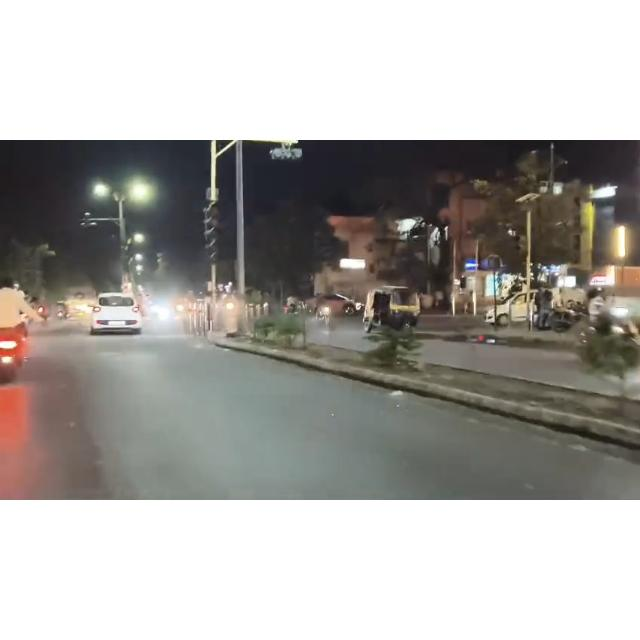auto: (360, 286, 422, 337)
car: (85, 290, 146, 342), (485, 282, 549, 322), (302, 284, 363, 318)
